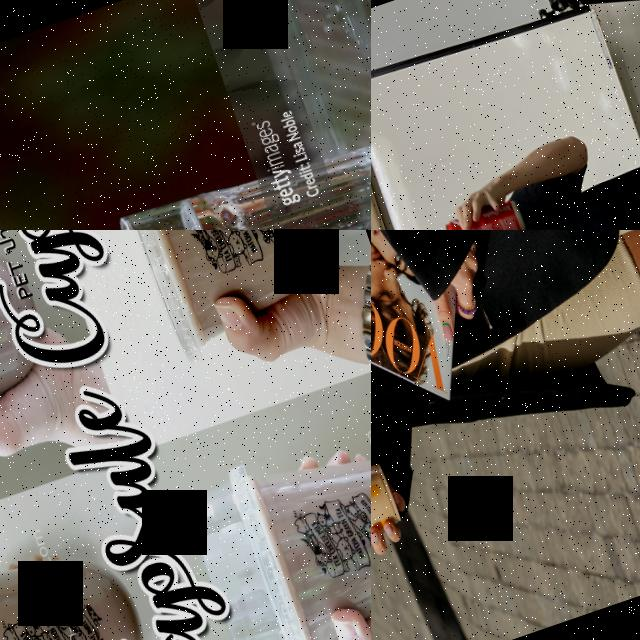can: (441, 193, 528, 230)
cup: (176, 413, 371, 640), (108, 230, 364, 365), (0, 510, 173, 640), (0, 230, 70, 475), (371, 450, 410, 577)
